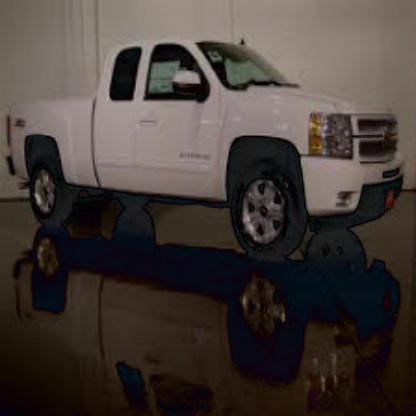Vehicle: (1, 32, 406, 264)
